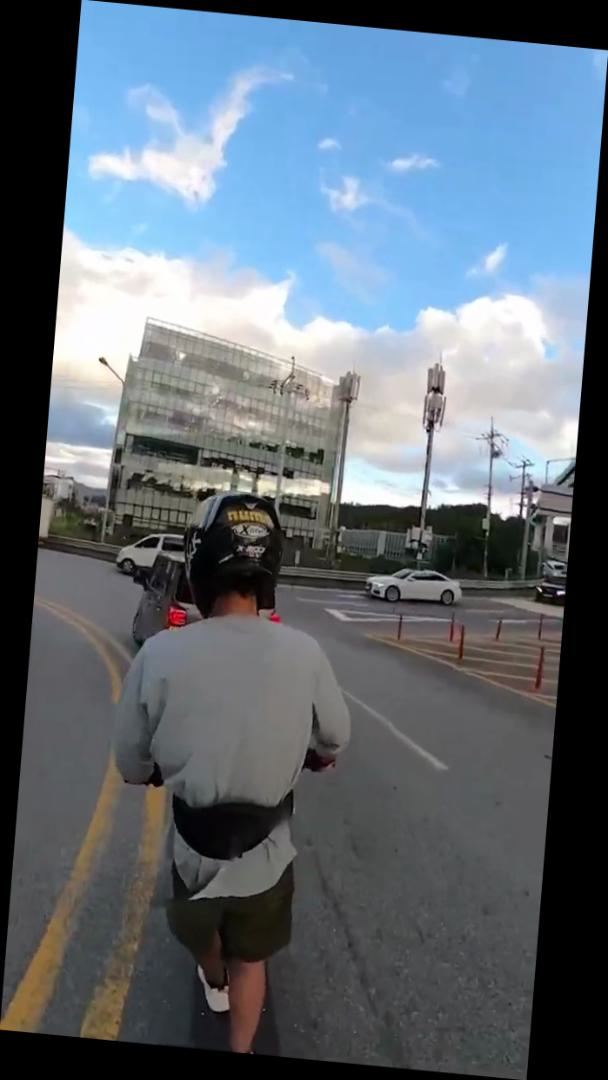helmet: (85, 482, 374, 1061)
